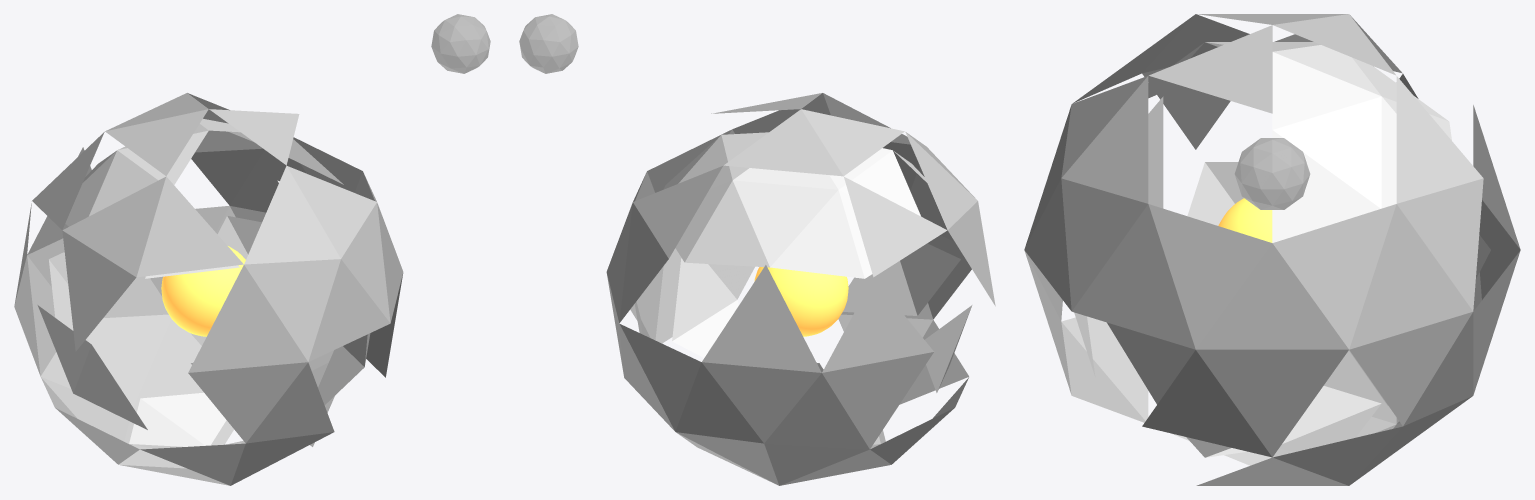
The model's file is PianettaRossa.glb.
3 views of the same model, side by side, from view 1: azimuth 30°, elevation 25°; view 2: azimuth 150°, elevation 25°; view 3: azimuth 270°, elevation 25° (orthographic). The views are drawn at different scales.
Visible parts, largest first — view 1: Shield1, Shield2, Sphere, Moon; view 2: Shield1, Shield2, Sphere, Moon; view 3: Shield1, Shield2, Moon, Sphere.
Boxes of the visible parts, bbox=[...] form: Shield1: bbox=[14, 93, 403, 485]; Shield2: bbox=[37, 118, 370, 448]; Sphere: bbox=[161, 246, 245, 336]; Moon: bbox=[431, 14, 490, 73]; Shield1: bbox=[606, 93, 995, 485]; Shield2: bbox=[634, 132, 972, 445]; Sphere: bbox=[754, 267, 848, 336]; Moon: bbox=[519, 14, 578, 73]; Shield1: bbox=[1024, 14, 1520, 485]; Shield2: bbox=[1074, 42, 1490, 457]; Moon: bbox=[1234, 138, 1310, 209]; Sphere: bbox=[1218, 198, 1272, 242].
Size of the model in its own units: 2.91 by 2.47 by 2.27.
